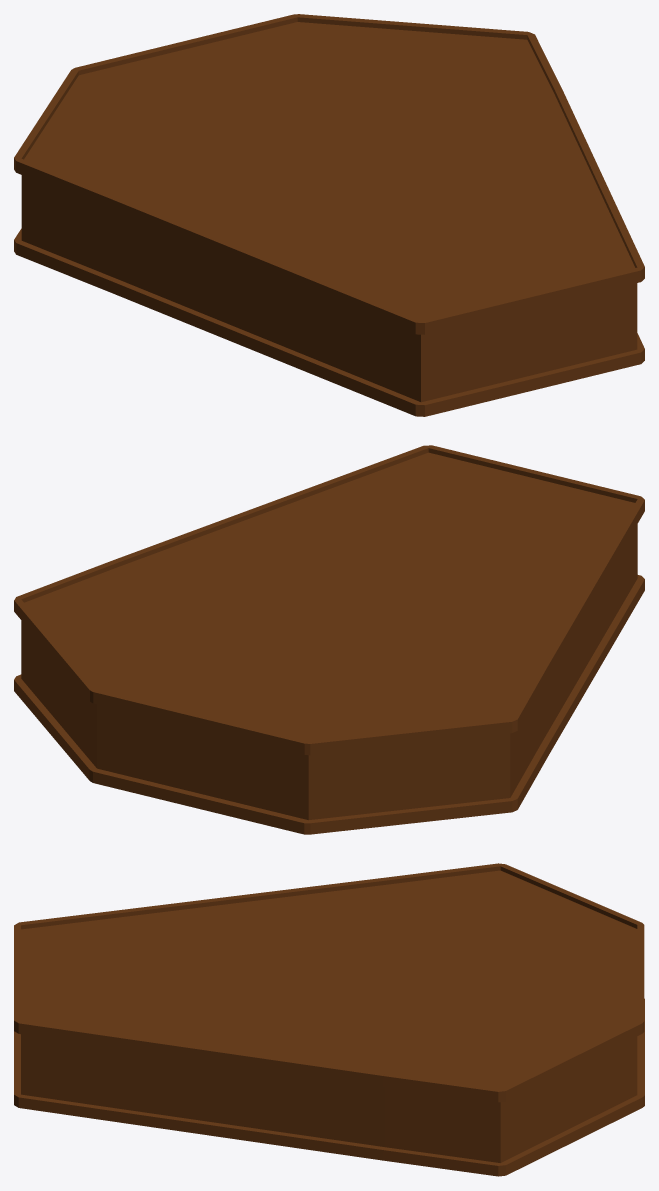
Rendered from coffin.fbx.
The picture shows the model from 3 angles, top to bottom: view 1: azimuth 30°, elevation 25°; view 2: azimuth 150°, elevation 25°; view 3: azimuth 270°, elevation 25°; orthographic projection. The views are drawn at different scales.
Parts seen in each view (by area): view 1: Cube; view 2: Cube; view 3: Cube.
Boxes of the visible parts, x1,y1,x2,y2 form: Cube: (14, 14, 644, 416); Cube: (14, 445, 644, 834); Cube: (14, 863, 644, 1176).
Bounding box in the file's own units: 237 × 40.85 × 276.
